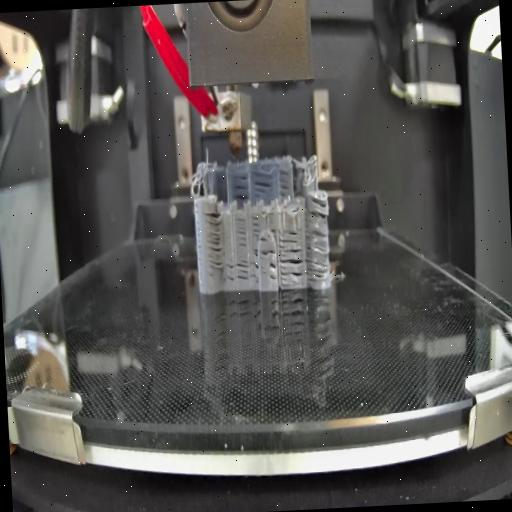cracks: (202, 208, 224, 270), (304, 229, 331, 279), (277, 248, 304, 288), (305, 194, 329, 222), (224, 258, 250, 282), (231, 172, 250, 200), (252, 170, 271, 196), (235, 216, 248, 250), (251, 246, 260, 288), (277, 172, 290, 197), (278, 228, 298, 244), (250, 216, 260, 234), (268, 262, 278, 280), (268, 208, 275, 232), (261, 247, 276, 257), (260, 234, 270, 243)
